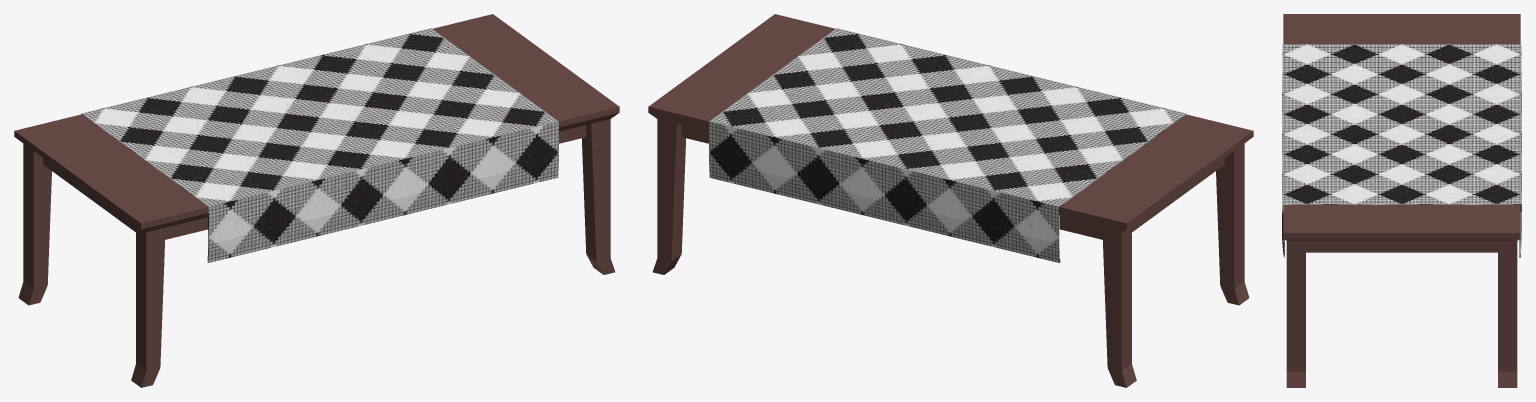
File: mesa de jantar.fbx
3 renders of one model, left to right at view 1: azimuth 30°, elevation 25°; view 2: azimuth 150°, elevation 25°; view 3: azimuth 270°, elevation 25°, orthographic. The views are drawn at different scales.
Parts seen in each view (by area): view 1: Mesa de Jantar; view 2: Mesa de Jantar; view 3: Mesa de Jantar.
Part boxes in pixels (x1=…): Mesa de Jantar: x1=14, y1=14, x2=619, y2=387; Mesa de Jantar: x1=648, y1=14, x2=1253, y2=387; Mesa de Jantar: x1=1282, y1=14, x2=1521, y2=387.
Bounding box in the file's own units: 240 × 80 × 111.
2 materials, 1 textured.
